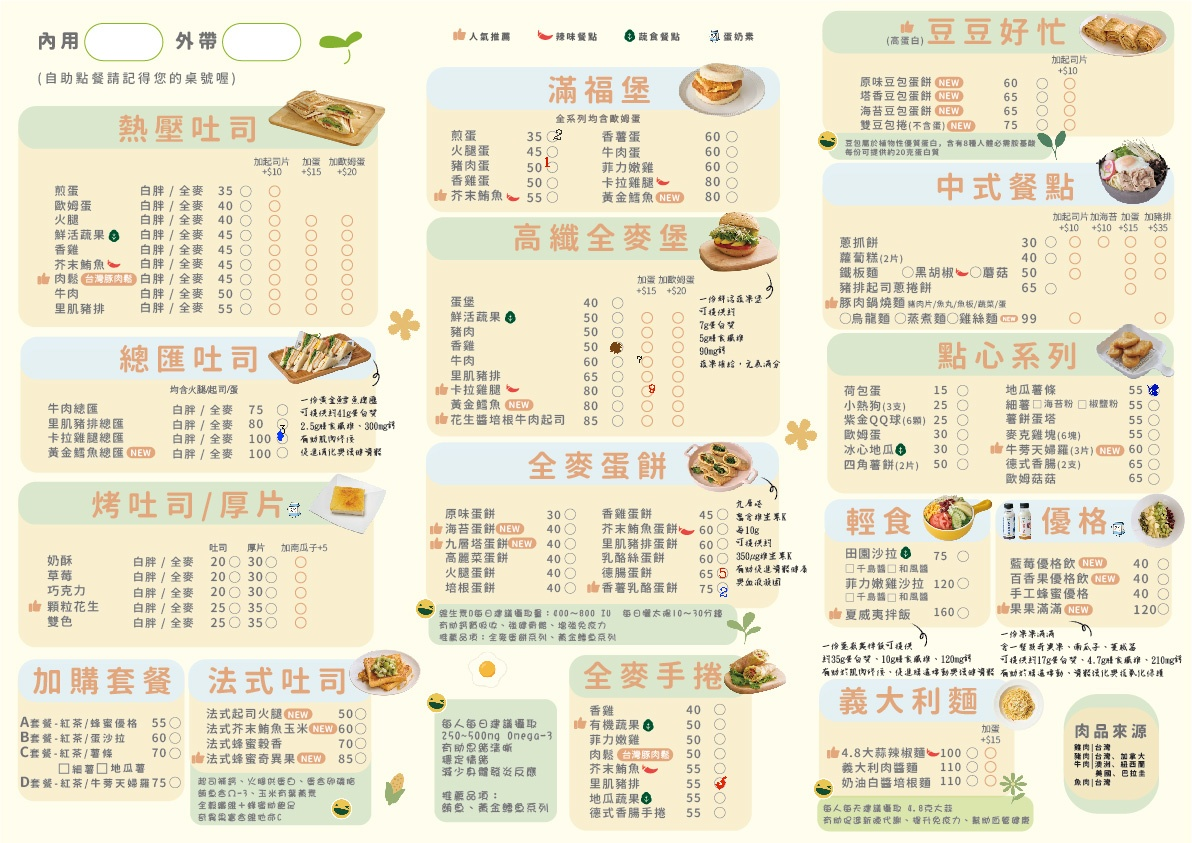marked_circle: (611, 343, 621, 354)
marked_number_1: (546, 161, 556, 172)
marked_number_2: (546, 131, 556, 142), (718, 582, 728, 593)
marked_number_3: (276, 417, 286, 428)
marked_number_5: (717, 567, 727, 578)
marked_number_7: (641, 357, 651, 368)
marked_number_9: (641, 386, 651, 397)
marked_tick: (276, 433, 286, 444), (714, 778, 724, 789)
marked_x: (1148, 385, 1158, 396)
